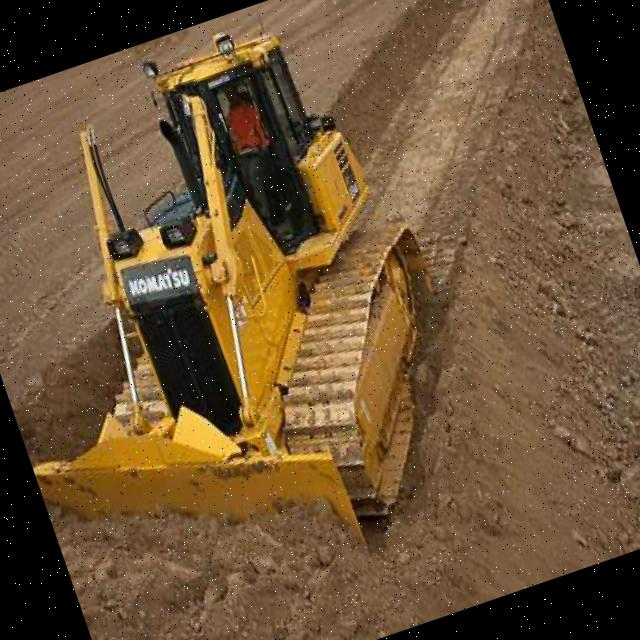Bulldozer: (0, 0, 532, 628)
